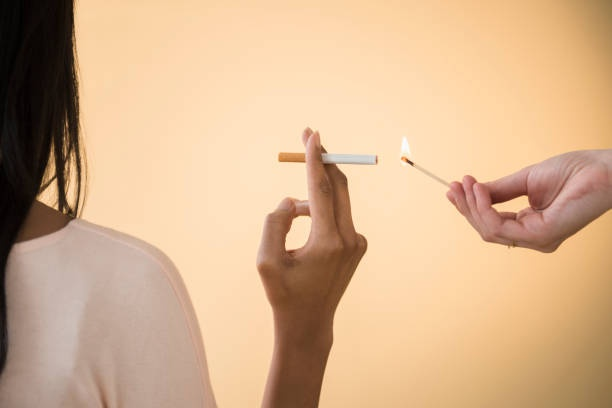sigaretta: (276, 148, 379, 173)
